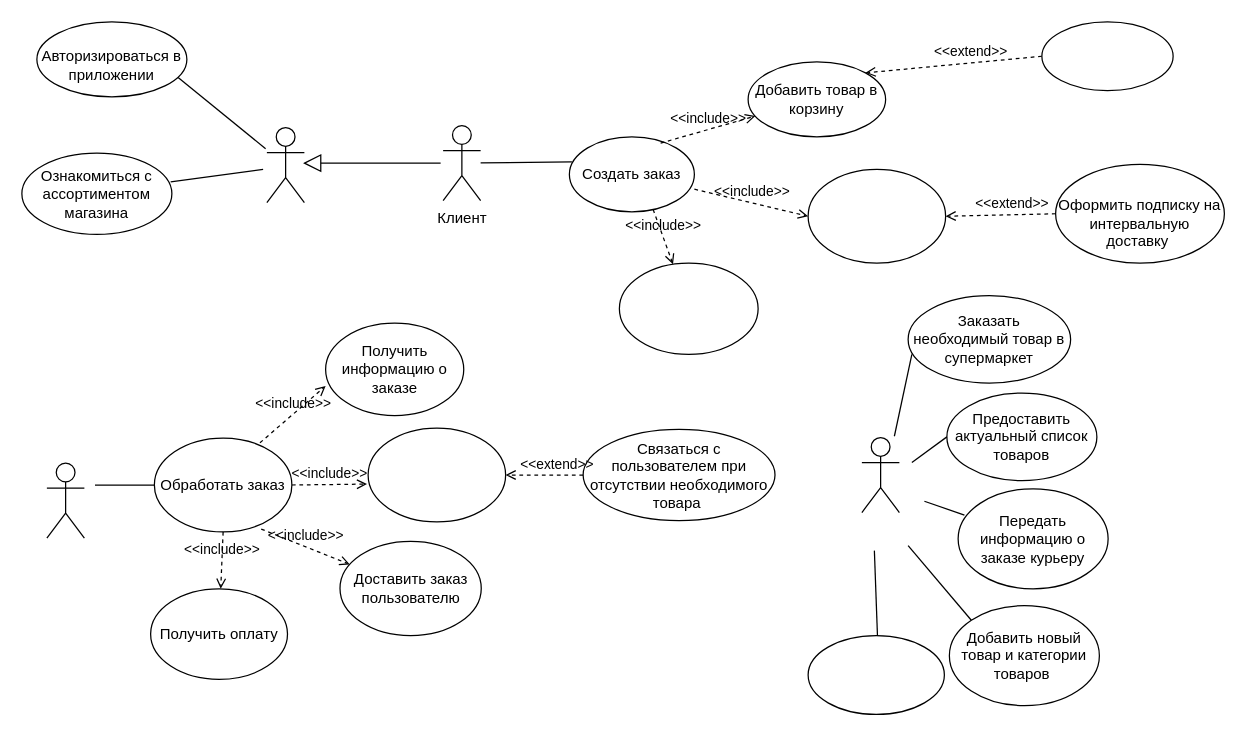
Some shapes in this 1246 by 736 pixel diagram are drawn without their labels. The centre of each missing label's shape, as x and y in pixels:
Администратор: point 880,474
Заполнить данные доставки: point 876,215
Изменить роль пользователя: point 875,674
Курьер: point 65,500
Незарегистрированный пользователь: point 285,164
Подтвердить заказ: point 688,308
Собрать заказ: point 436,474
Удалить товар из корзины: point 1107,56
